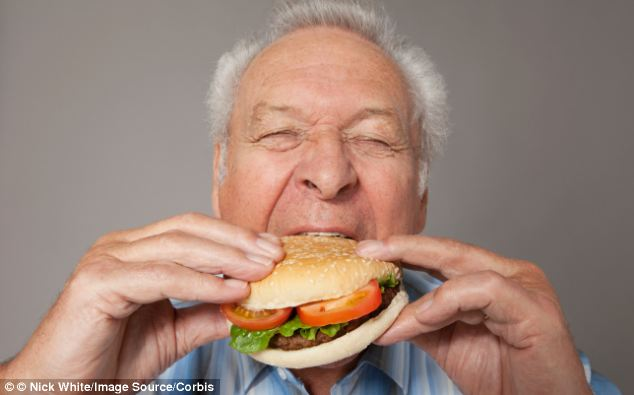eating: (124, 3, 549, 368)
